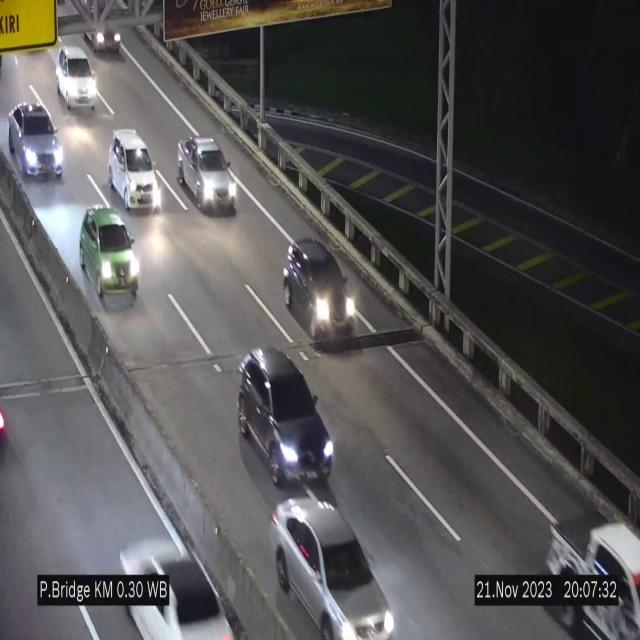Car: (272, 496, 396, 638), (114, 518, 244, 640), (238, 348, 334, 488), (282, 236, 358, 348), (76, 204, 142, 308), (176, 136, 238, 213), (109, 129, 161, 212), (8, 102, 64, 176), (56, 46, 98, 112)
Truck: (533, 474, 640, 640)
